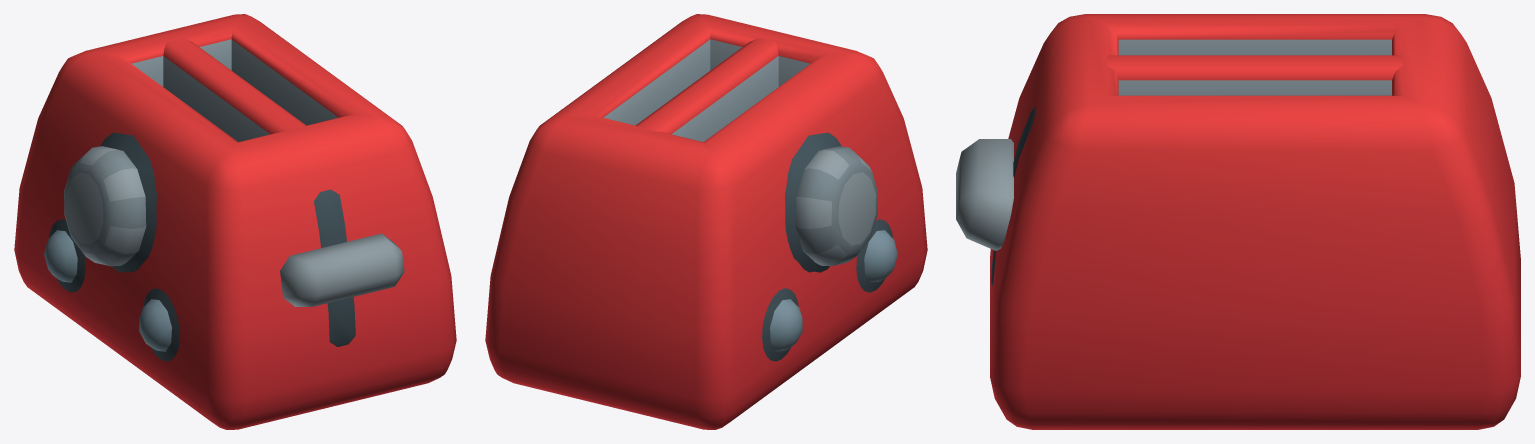
File: Toaster_01.glb
3 renders of one model, left to right at view 1: azimuth 30°, elevation 25°; view 2: azimuth 150°, elevation 25°; view 3: azimuth 270°, elevation 25°, orthographic. The views are drawn at different scales.
Parts seen in each view (by area): view 1: Toaster_01; view 2: Toaster_01; view 3: Toaster_01.
Part boxes in pixels (x1,y1,x2,y2): Toaster_01: (14,14,456,429); Toaster_01: (485,14,927,429); Toaster_01: (956,14,1520,429).
Bounding box in the file's own units: 0.1946 × 0.1702 × 0.2807.
Materials: 1 (1 with a texture image).
